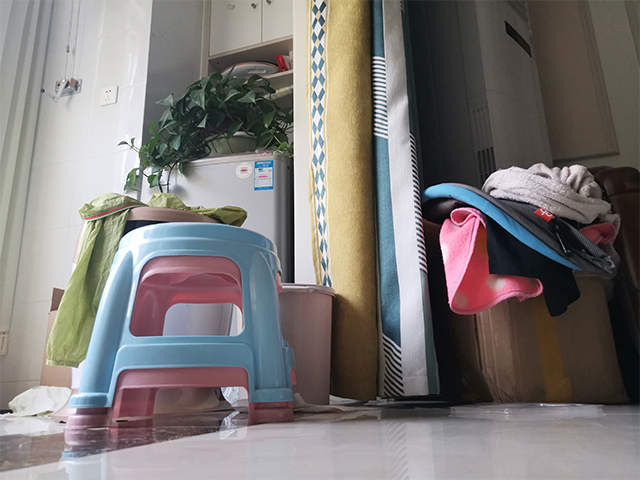curtain: (286, 1, 445, 412)
stool: (59, 220, 299, 432)
trashcan: (274, 280, 338, 407)
